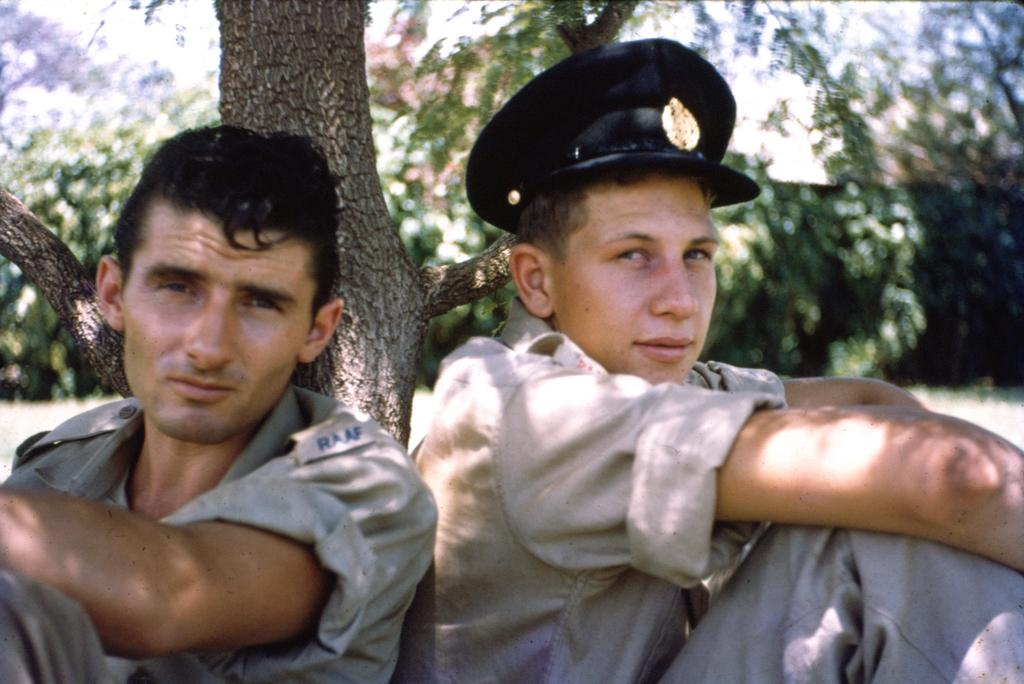Hat: (466, 36, 764, 234)
